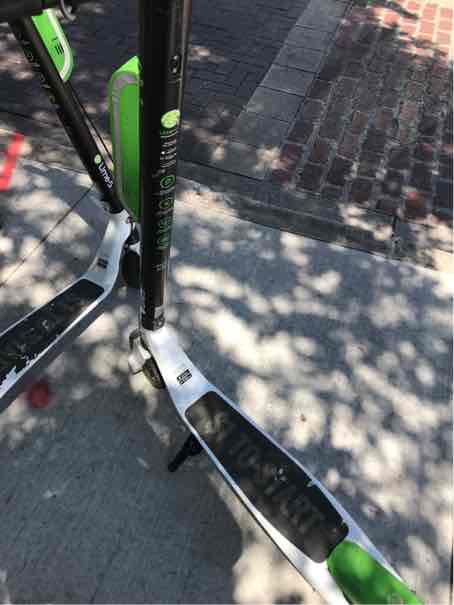scooter: (4, 9, 438, 605)
